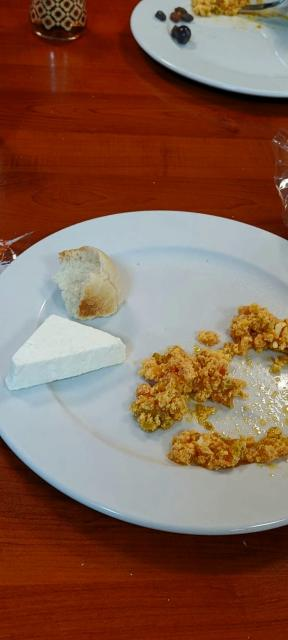Organik: (132, 306, 288, 471), (0, 313, 127, 399), (54, 251, 129, 317)
